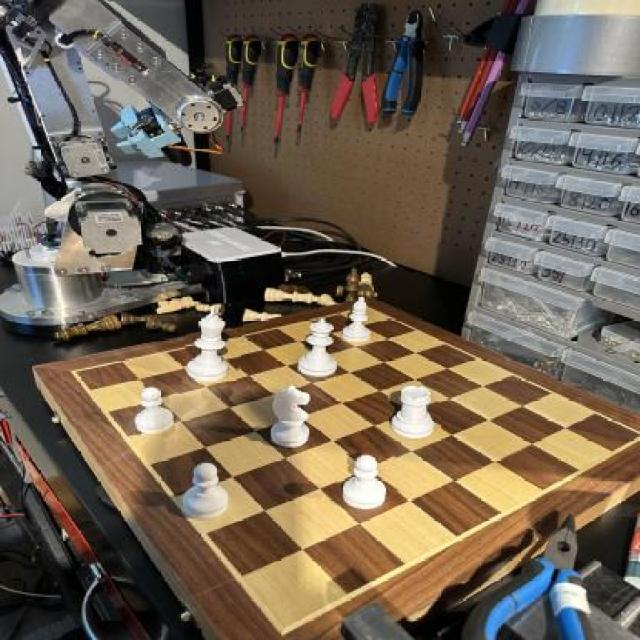black-rook: (342, 291, 380, 350)
white-bishop: (183, 302, 244, 386)
white-king: (270, 384, 316, 448)
white-knight: (336, 452, 400, 513), (185, 463, 230, 527), (130, 384, 182, 436)
white-pawn: (296, 315, 342, 387)
white-queen: (390, 383, 442, 442)
